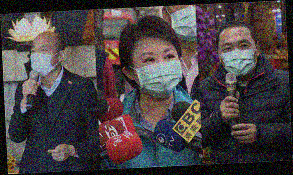with_mask: (132, 47, 183, 98), (218, 37, 258, 79), (30, 42, 61, 77)
